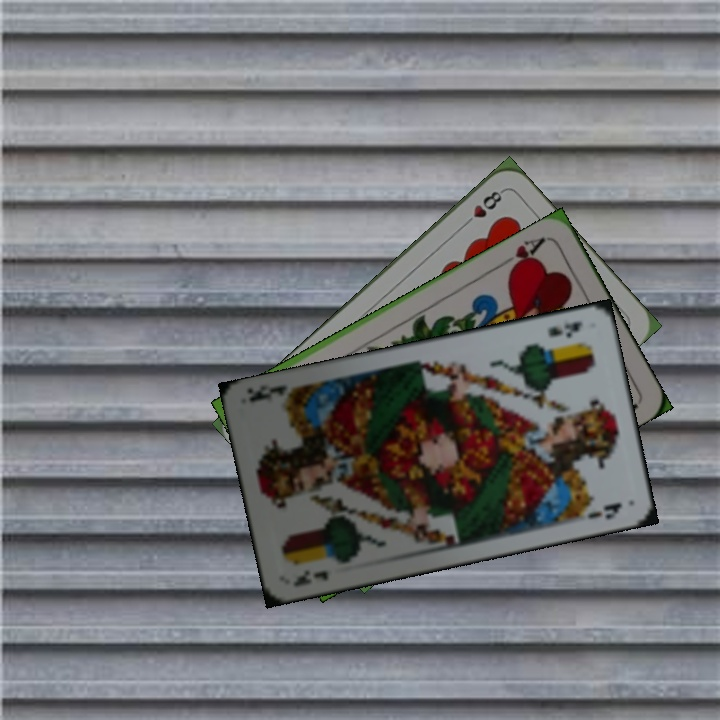EK: (289, 565, 331, 589), (544, 317, 585, 341)
H8: (458, 186, 506, 230)
HA: (495, 233, 548, 276)
